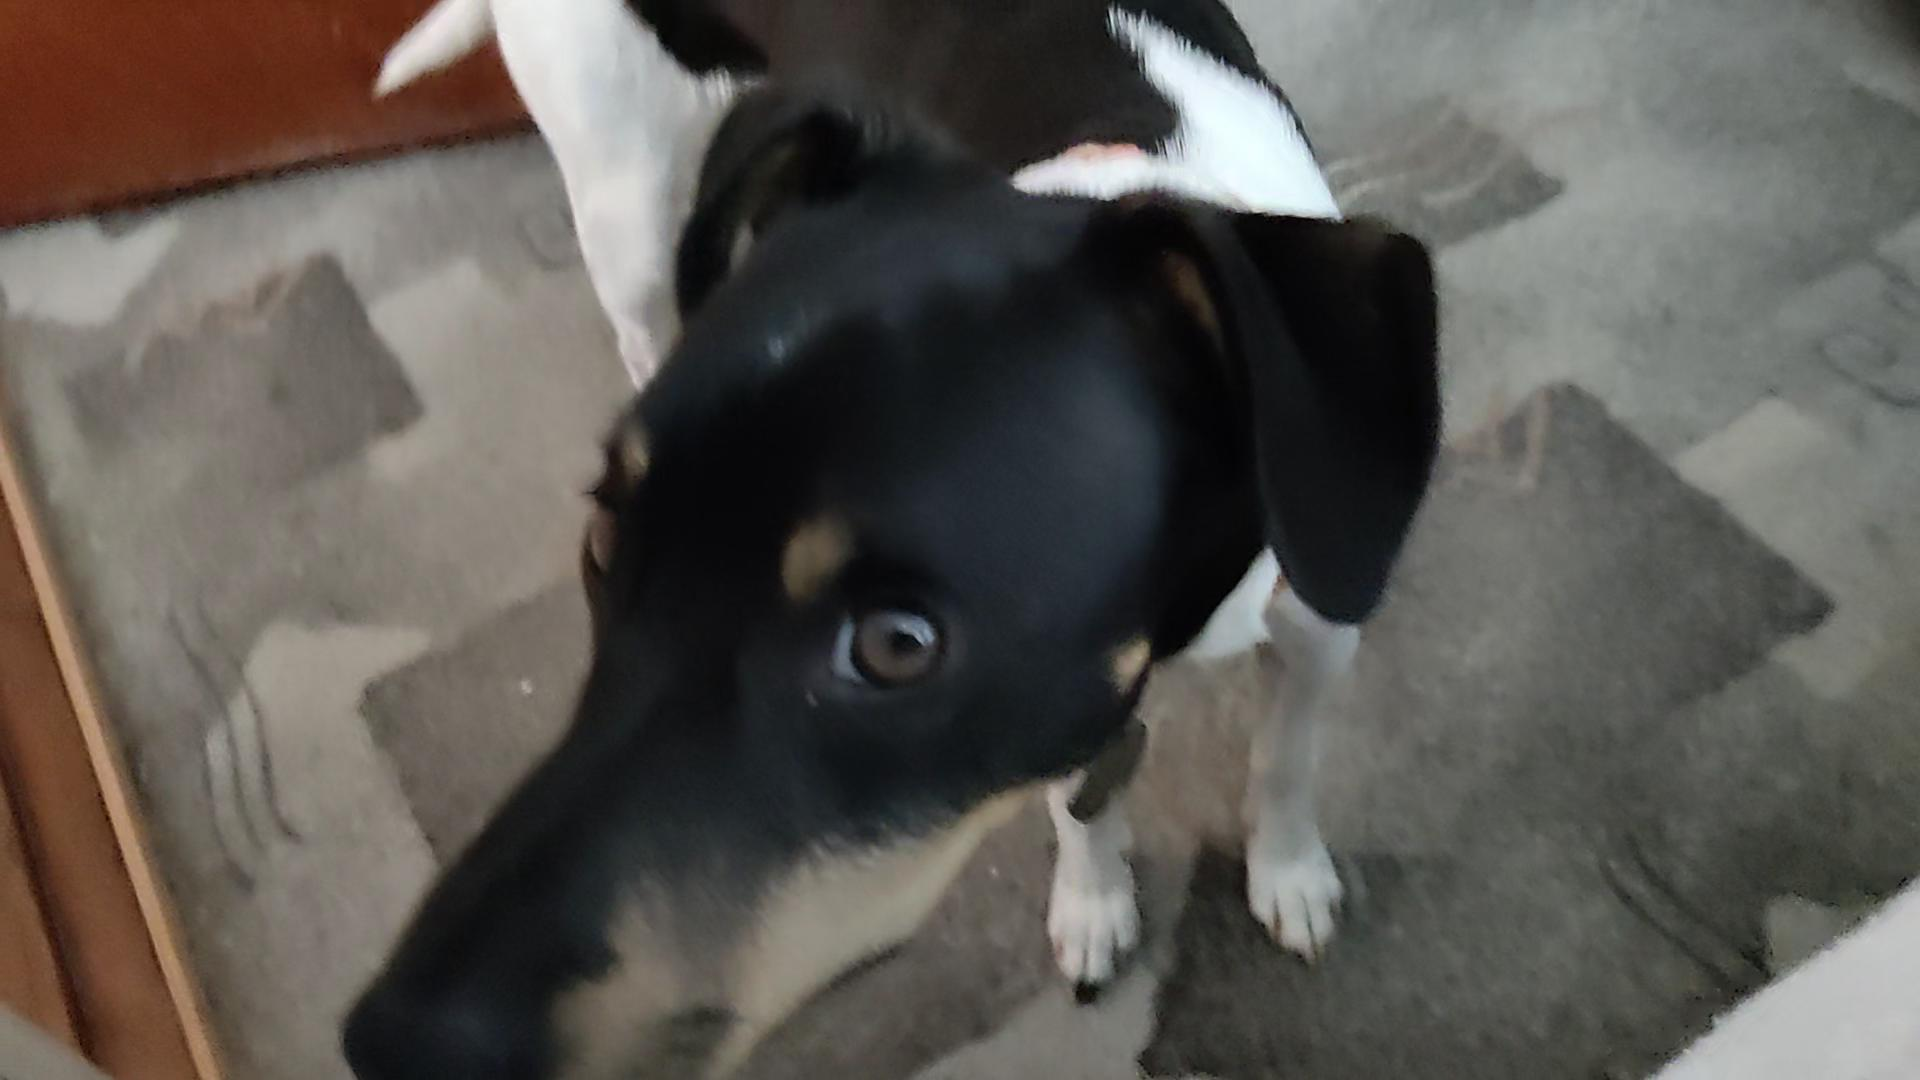Dog: (313, 0, 1458, 1079)
